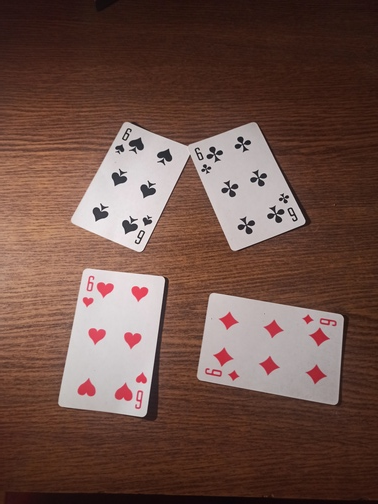sixclubs: (188, 123, 309, 252)
sixdiamonds: (194, 292, 345, 407)
sixhearts: (57, 269, 165, 420)
sixspades: (71, 122, 190, 251)
